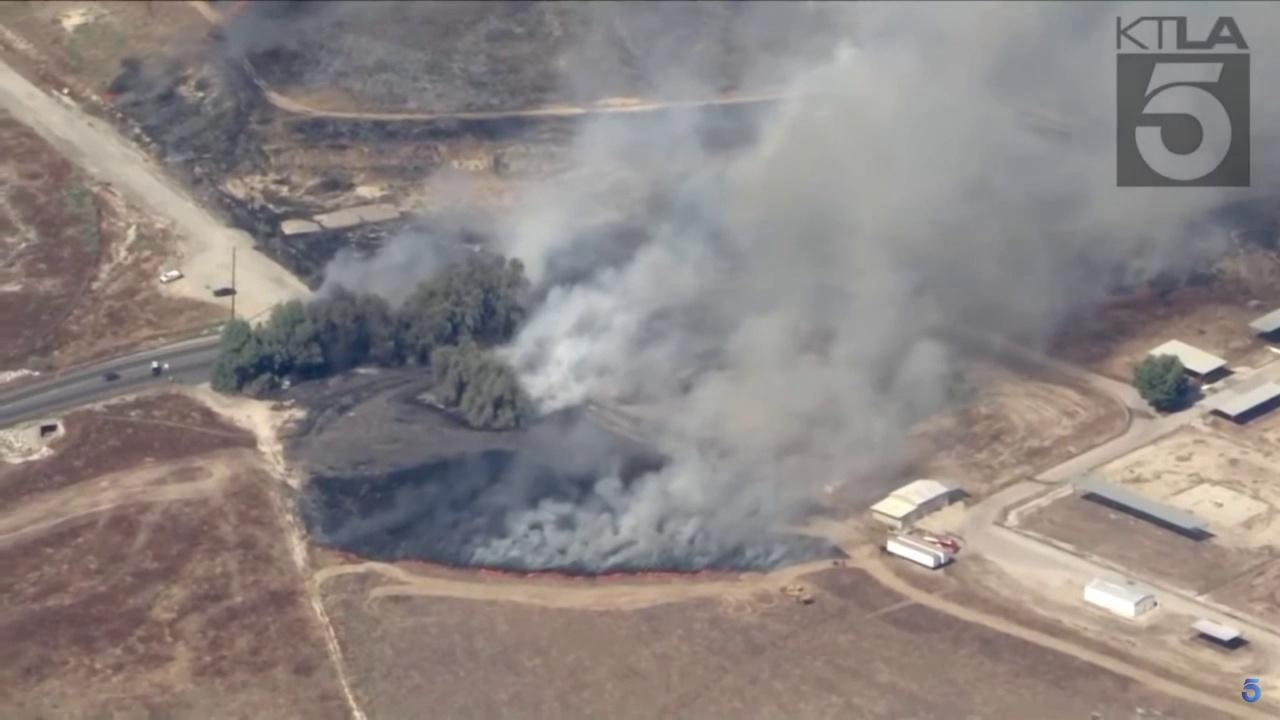fire: (481, 568, 585, 581), (596, 572, 702, 581), (104, 91, 117, 103), (417, 560, 425, 566)
smoke: (293, 0, 1280, 569), (107, 0, 345, 167)
